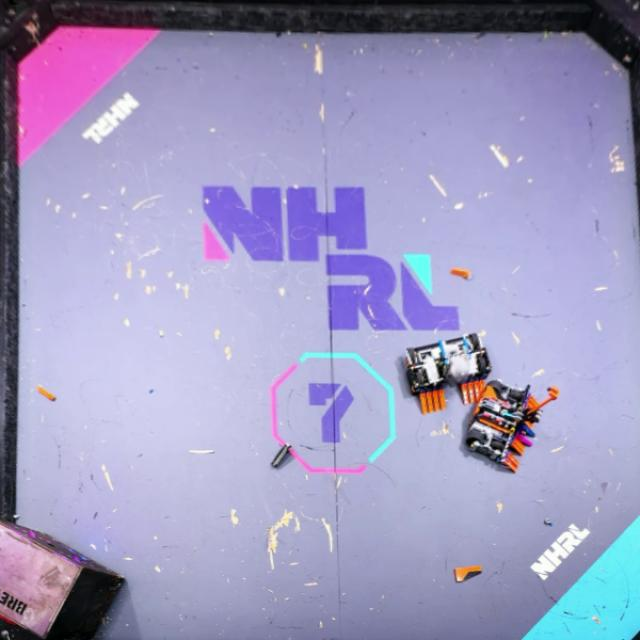housebot: (0, 518, 128, 640)
robot: (465, 380, 560, 475), (405, 331, 494, 414)
